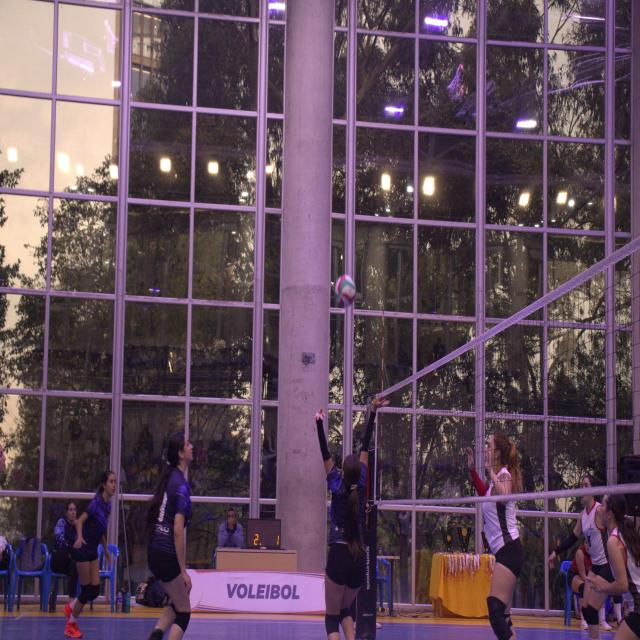volleyball: (335, 273, 356, 307)
